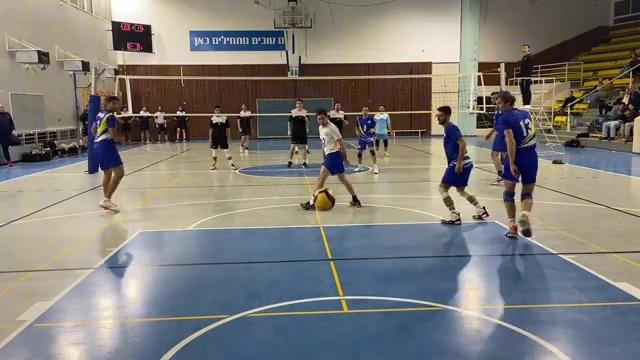ball: (311, 187, 340, 214)
